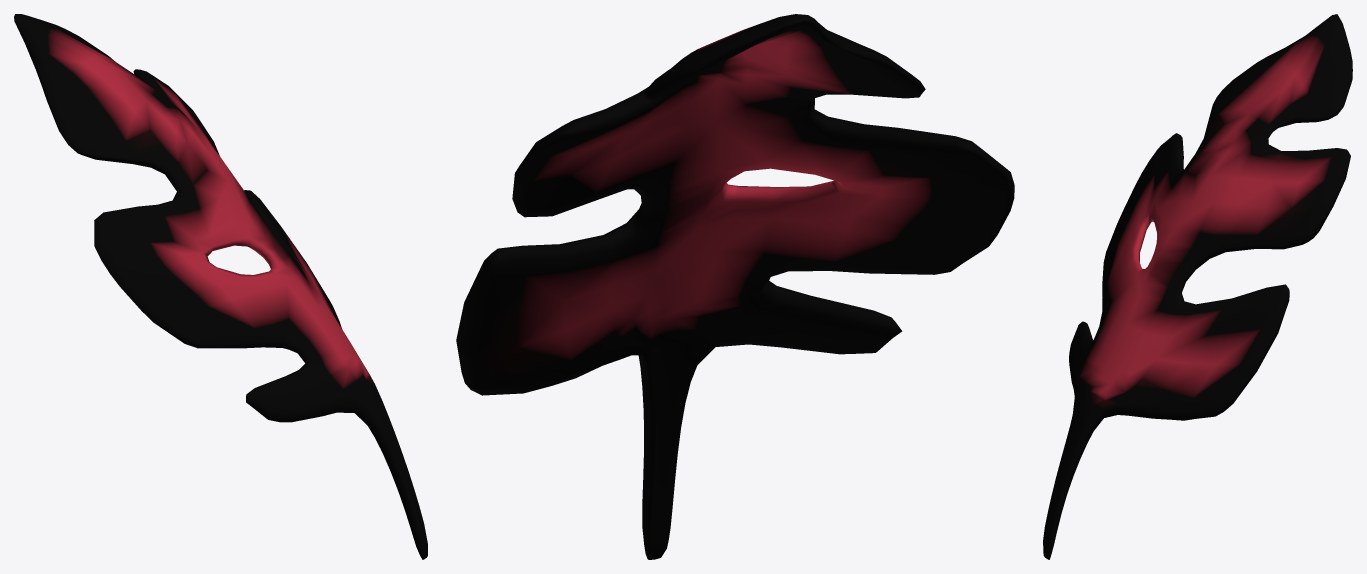
The model's file is Leaf_11_6.fbx.
3 views of the same model, side by side, from view 1: azimuth 30°, elevation 25°; view 2: azimuth 150°, elevation 25°; view 3: azimuth 270°, elevation 25° (orthographic). The views are drawn at different scales.
Visible parts, largest first — view 1: Leaf_11; view 2: Leaf_11; view 3: Leaf_11.
Part boxes in pixels (x1,y1,x2,y2): Leaf_11: (14,14,427,559); Leaf_11: (456,14,1014,559); Leaf_11: (1043,14,1352,559).
Bounding box in the file's own units: 192 × 327 × 210.
